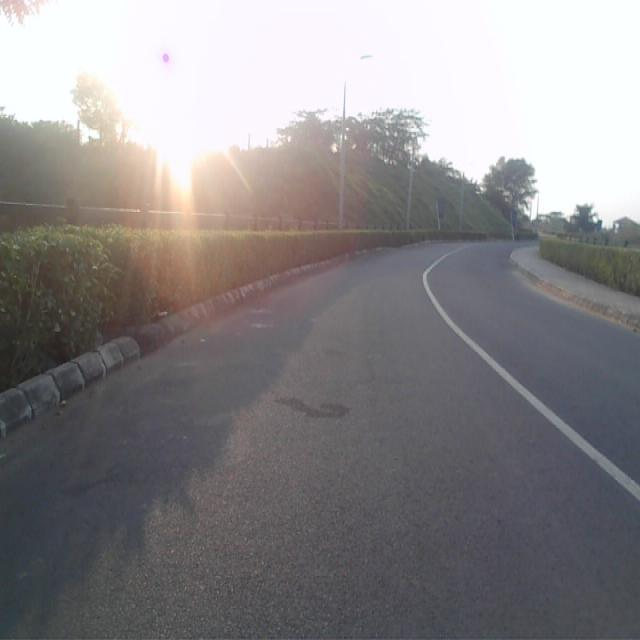lane: (0, 243, 640, 640)
